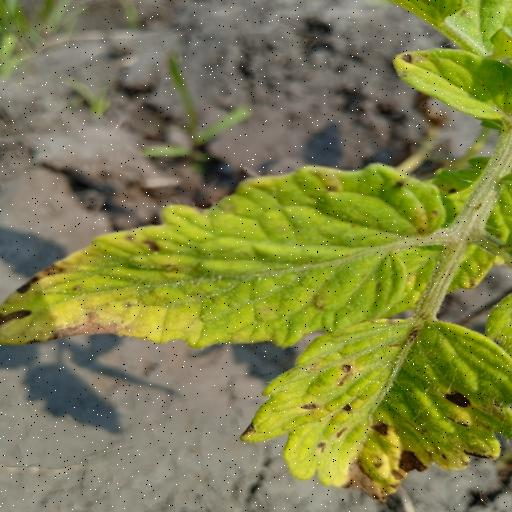Tomato_Brown_Spots: (0, 158, 460, 350), (237, 310, 512, 500)
